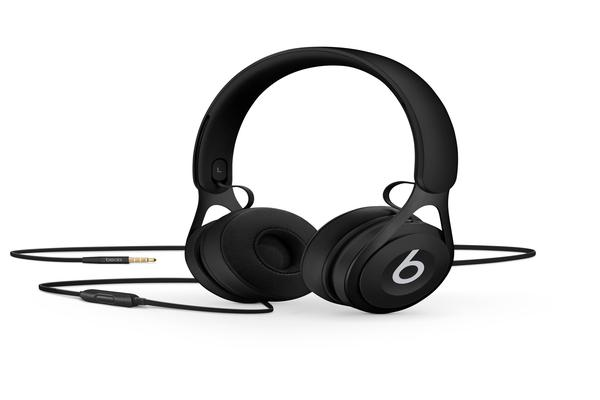headphone: (123, 49, 510, 378)
